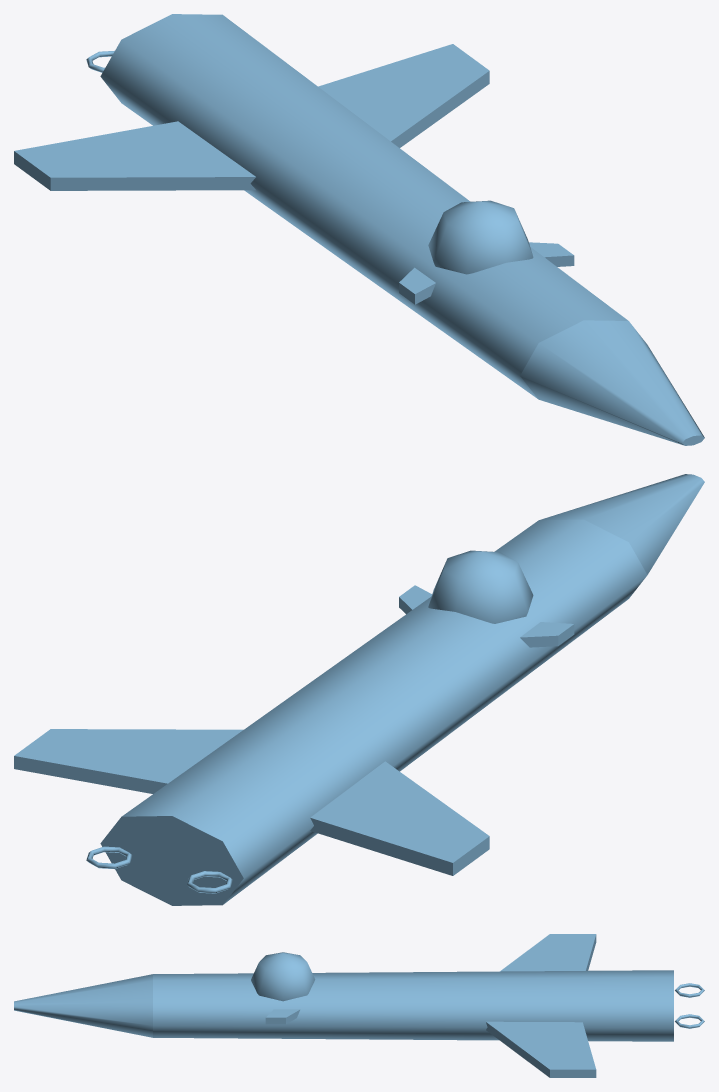
The model's file is fighter-canard-302.glb.
The picture shows the model from 3 angles, top to bottom: view 1: azimuth 30°, elevation 25°; view 2: azimuth 150°, elevation 25°; view 3: azimuth 270°, elevation 25°; orthographic projection. The views are drawn at different scales.
Size of the model in its own units: 0.9228 by 0.2574 by 1.99.
